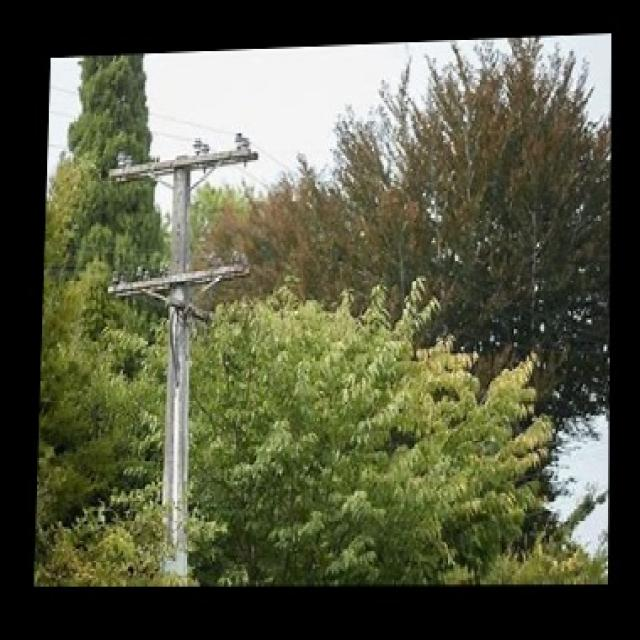utility poles: (110, 122, 262, 582)
